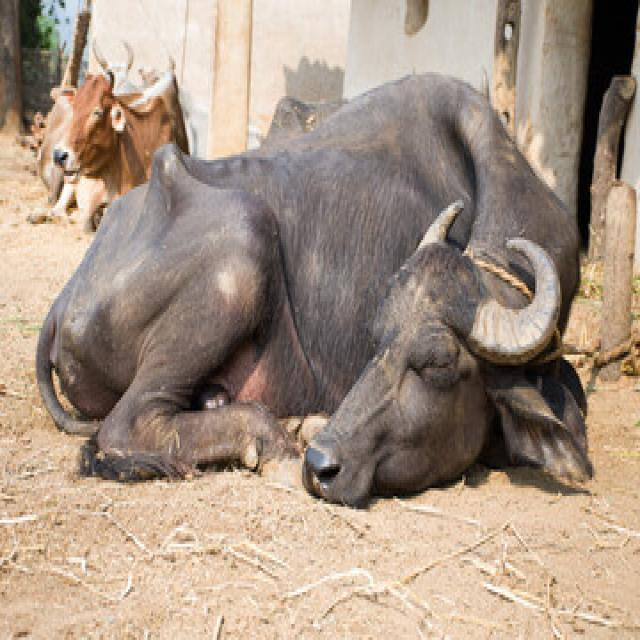Buffalo: (34, 67, 592, 504)
